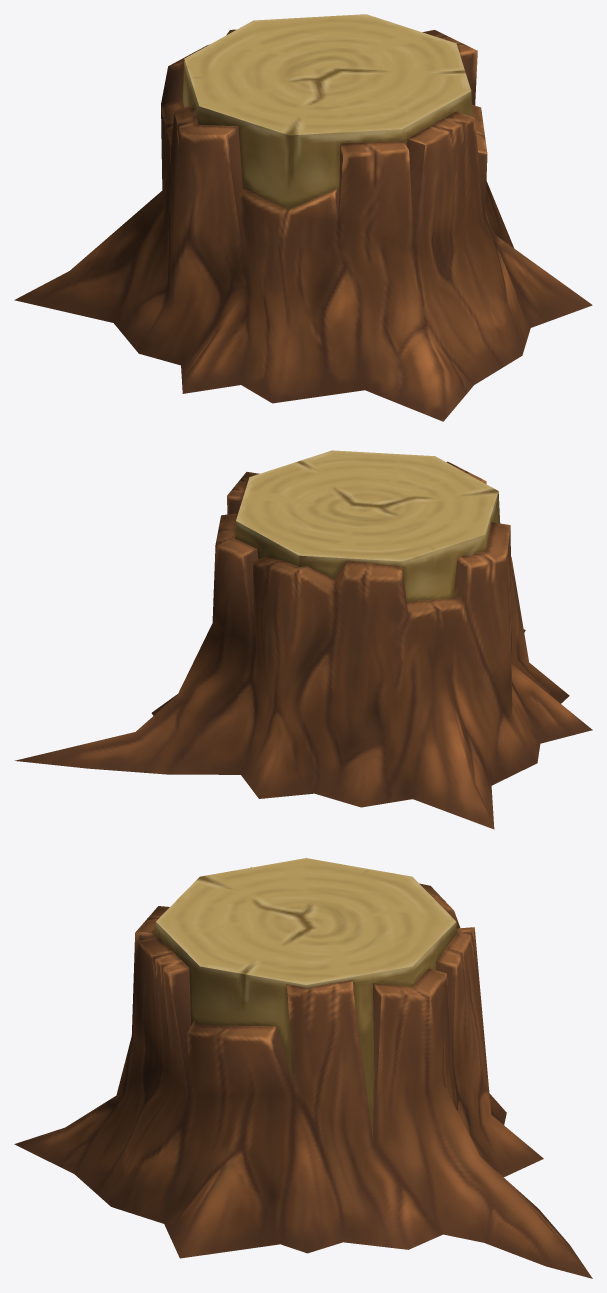
Rendered from ppsForestStump.FBX.
The picture shows the model from 3 angles, top to bottom: view 1: azimuth 30°, elevation 25°; view 2: azimuth 150°, elevation 25°; view 3: azimuth 270°, elevation 25°; orthographic projection. The views are drawn at different scales.
Parts seen in each view (by area): view 1: ppsForestStump; view 2: ppsForestStump; view 3: ppsForestStump.
Part boxes in pixels (bbox=[...]): ppsForestStump: bbox=[14, 14, 592, 421]; ppsForestStump: bbox=[14, 450, 592, 829]; ppsForestStump: bbox=[14, 858, 592, 1278].
Size of the model in its own units: 183 by 86.97 by 193.
